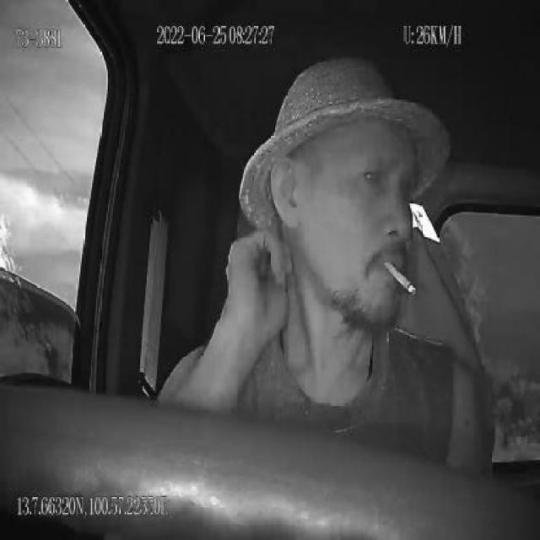smoking: (382, 256, 418, 299)
